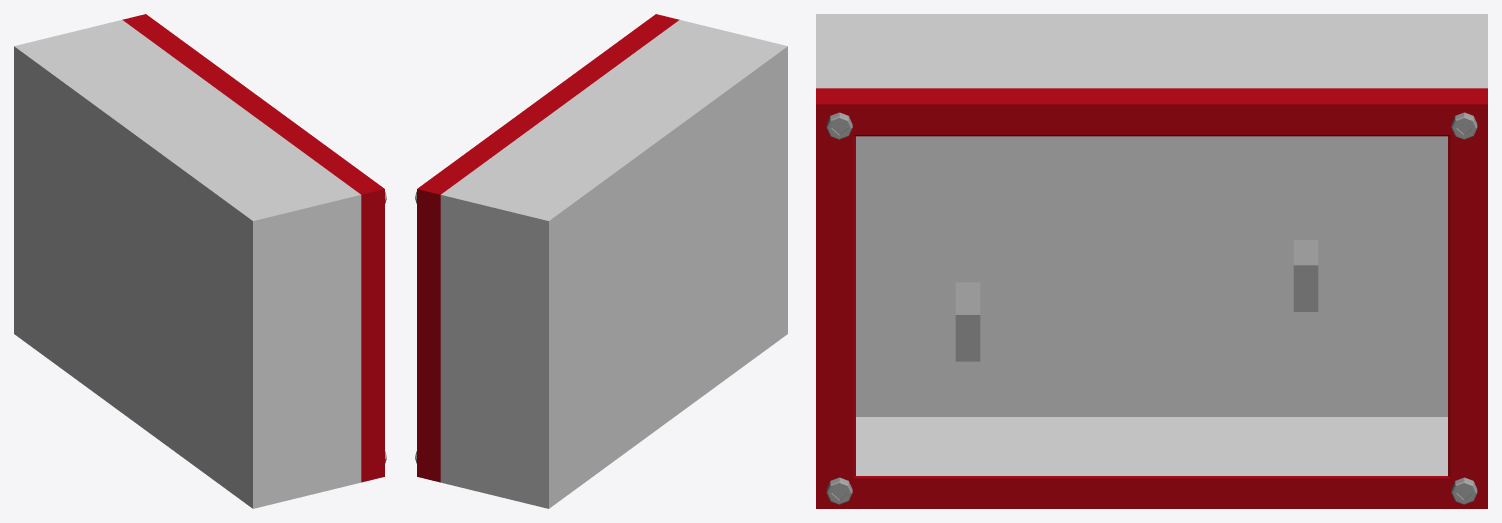
The model's file is Elec_box for shooter.fbx.
3 renders of one model, left to right at view 1: azimuth 30°, elevation 25°; view 2: azimuth 150°, elevation 25°; view 3: azimuth 270°, elevation 25°, orthographic. The views are drawn at different scales.
Parts seen in each view (by area): view 1: Cube, Cube.001; view 2: Cube, Cube.001; view 3: Cube, Cube.001, Cylinder, Cube.002, Cube.003.
Boxes of the visible parts, x1,y1,x2,y2 form: Cube: [14, 20, 361, 508]; Cube.001: [122, 14, 384, 482]; Cube: [440, 20, 787, 508]; Cube.001: [417, 14, 679, 482]; Cube: [816, 14, 1487, 475]; Cube.001: [816, 88, 1487, 508]; Cylinder: [826, 112, 1477, 504]; Cube.002: [955, 282, 980, 361]; Cube.003: [1293, 240, 1318, 311].
Bounding box in the file's own units: 100 × 200 × 301.
